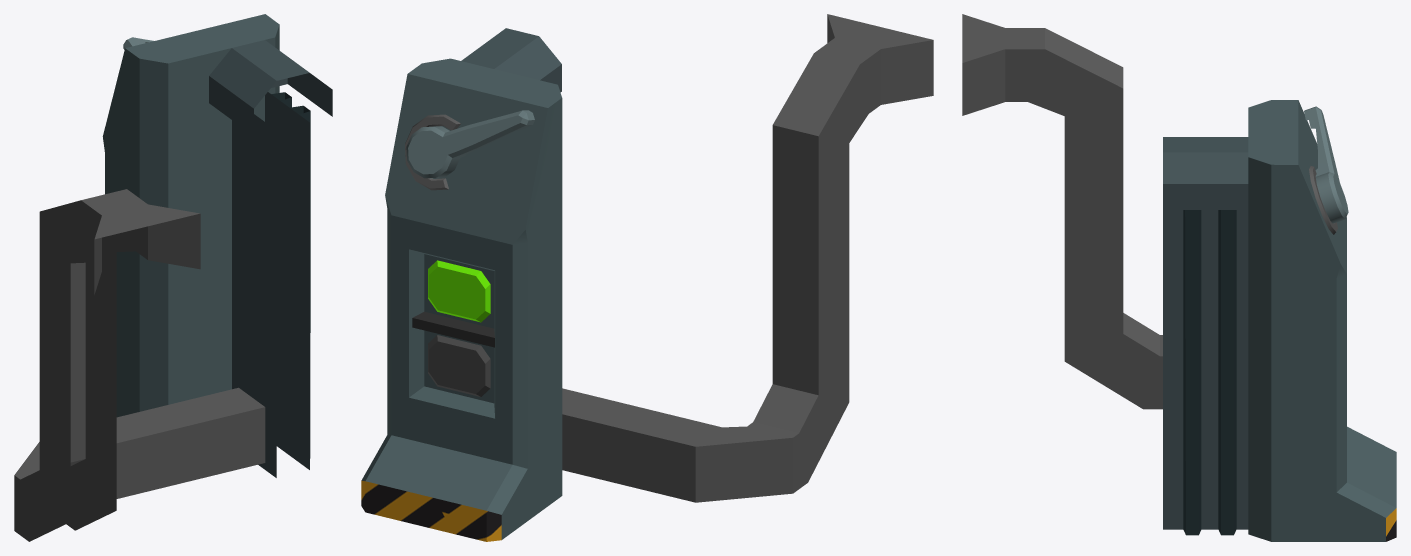
The model's file is SM_switch_down_valid.fbx.
3 renders of one model, left to right at view 1: azimuth 30°, elevation 25°; view 2: azimuth 150°, elevation 25°; view 3: azimuth 270°, elevation 25°, orthographic. The views are drawn at different scales.
Parts seen in each view (by area): view 1: SM_switch_down_valid; view 2: SM_switch_down_valid; view 3: SM_switch_down_valid.
Boxes of the visible parts, x1,y1,x2,y2 form: SM_switch_down_valid: [14, 14, 332, 541]; SM_switch_down_valid: [361, 14, 933, 541]; SM_switch_down_valid: [962, 14, 1396, 541].
Bounding box in the file's own units: 77.66 × 84.83 × 88.43.
Materials: 1 (1 with a texture image).
